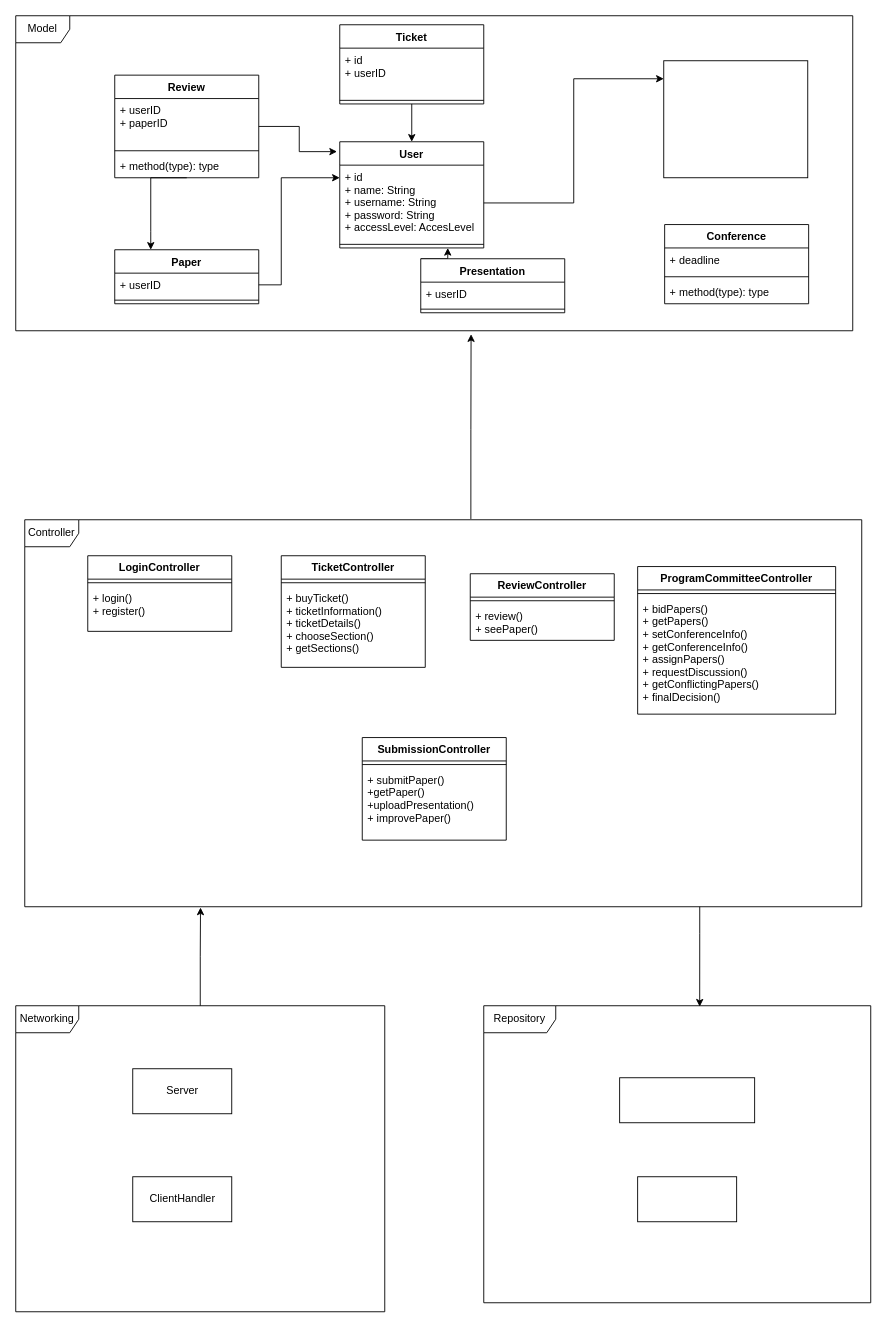
Image size: 887x1328. Some labels were removed from this diagram. Each missing label, with the centre of its shape:
"AccessLevel Admin Chair CoChair PCM Authors Normal" belongs at point (735, 119).
"DatabaseConnector" belongs at point (687, 1100).
"TableAdapter" belongs at point (687, 1199).
